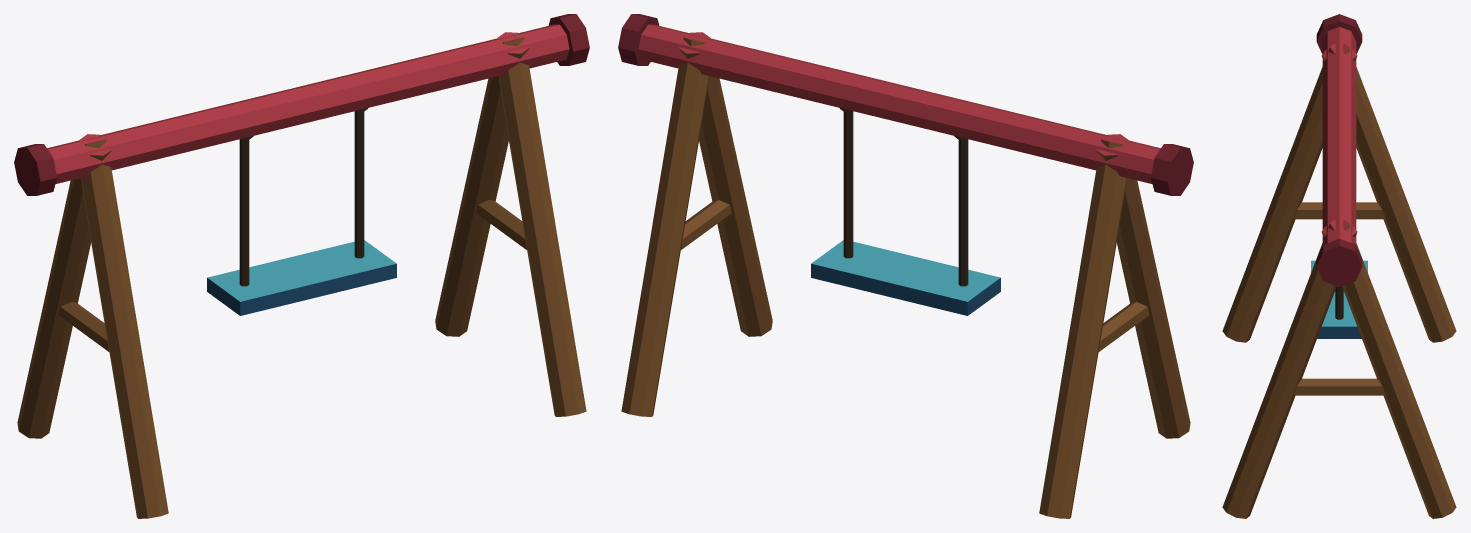
Rendered from Garden_Swingset.glb.
3 views of the same model, side by side, from view 1: azimuth 30°, elevation 25°; view 2: azimuth 150°, elevation 25°; view 3: azimuth 270°, elevation 25° (orthographic). The views are drawn at different scales.
Parts seen in each view (by area): view 1: SwingFrame, SwingSeat; view 2: SwingFrame, SwingSeat; view 3: SwingFrame, SwingSeat.
Boxes of the visible parts, x1,y1,x2,y2 form: SwingFrame: [14, 14, 589, 518]; SwingSeat: [207, 108, 396, 315]; SwingFrame: [618, 14, 1193, 518]; SwingSeat: [811, 108, 1000, 315]; SwingFrame: [1222, 14, 1456, 518]; SwingSeat: [1311, 260, 1367, 338].
Bounding box in the file's own units: 5.26 × 3.15 × 2.25.
